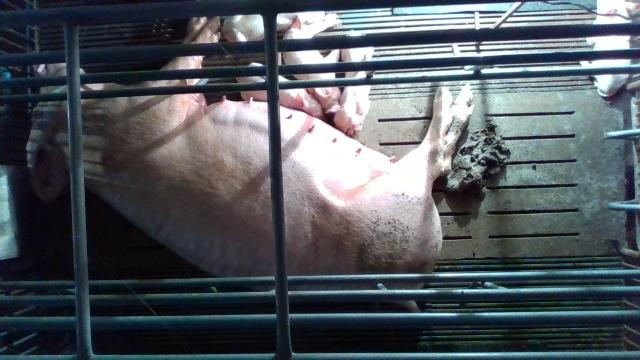piglet: (579, 0, 640, 98), (282, 26, 342, 115), (236, 62, 323, 118), (332, 32, 374, 137), (221, 13, 342, 42)
sow-sleep-lactate: (27, 14, 475, 312)
